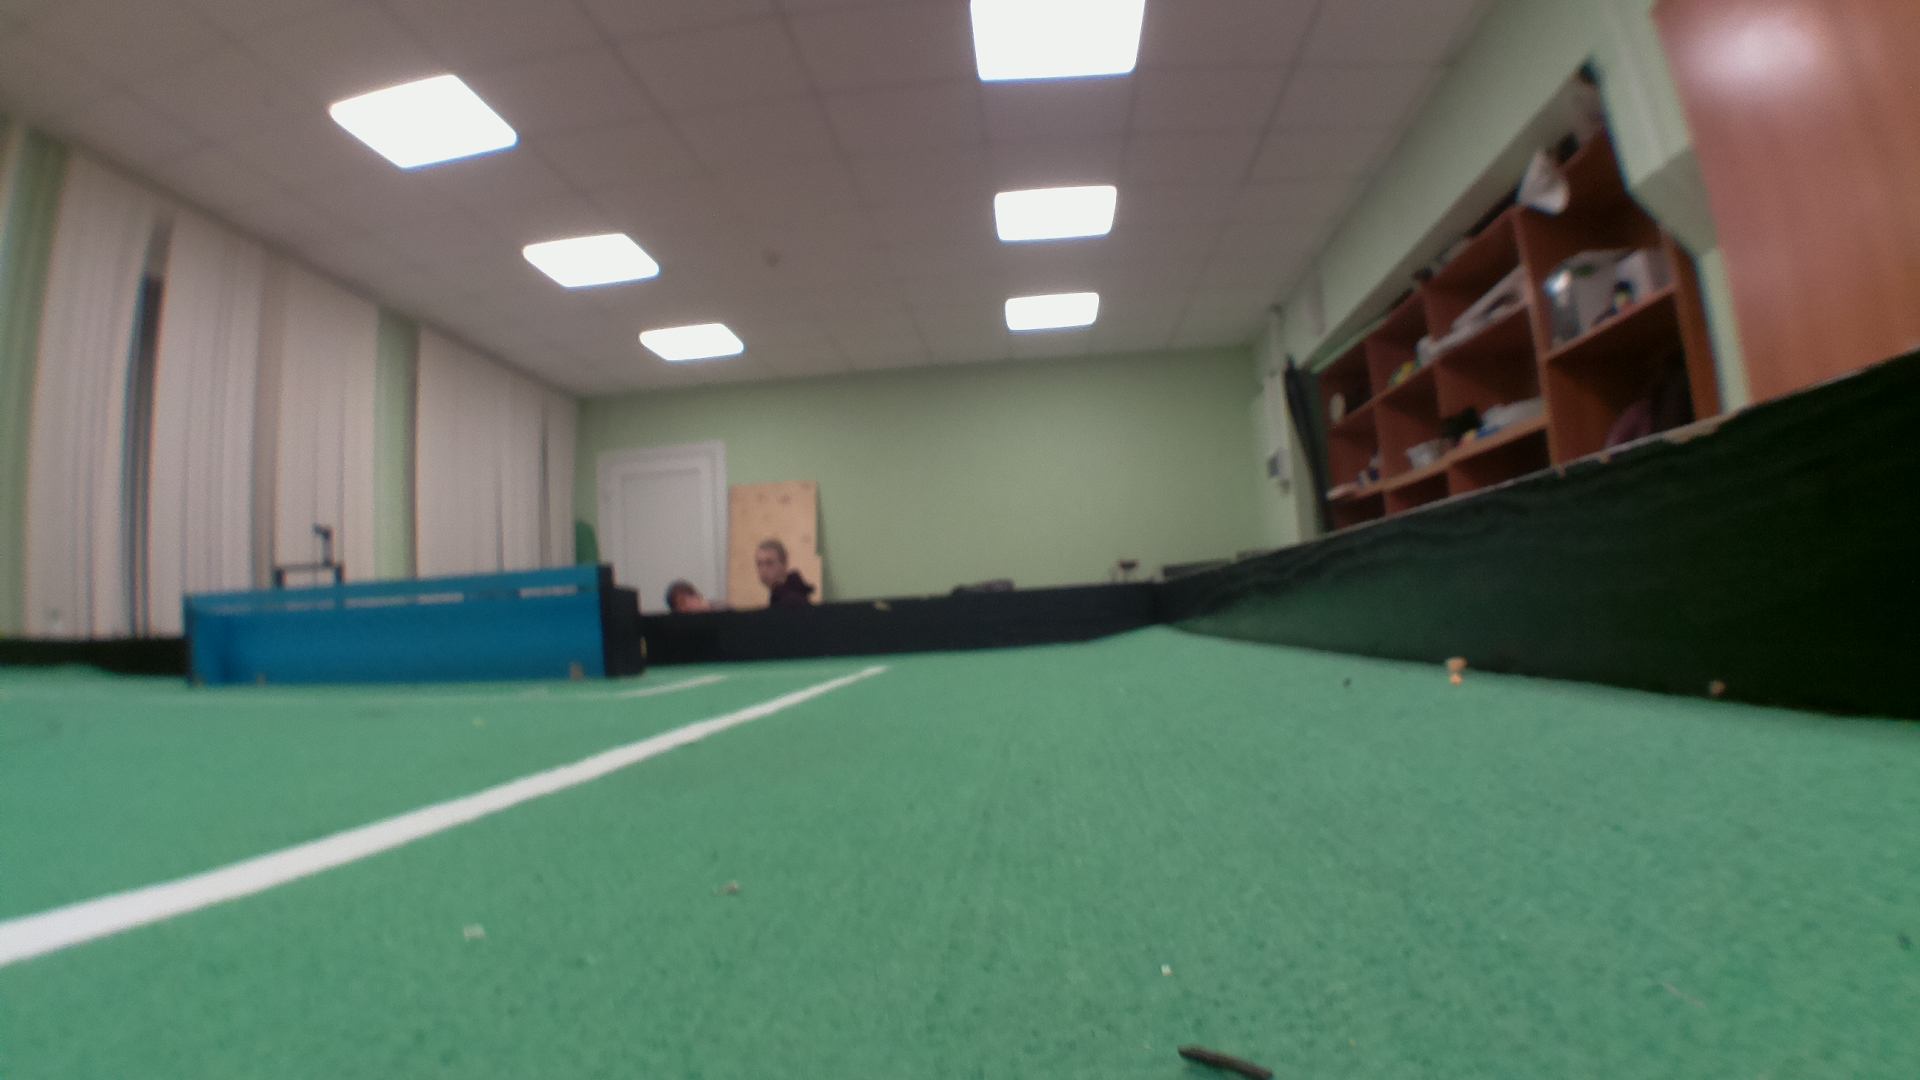BlueGoal: (191, 567, 600, 688)
